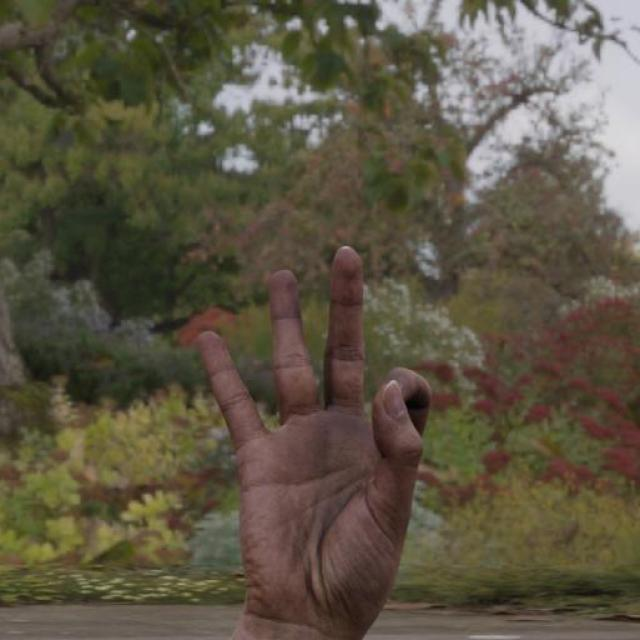F: (195, 243, 436, 636)
